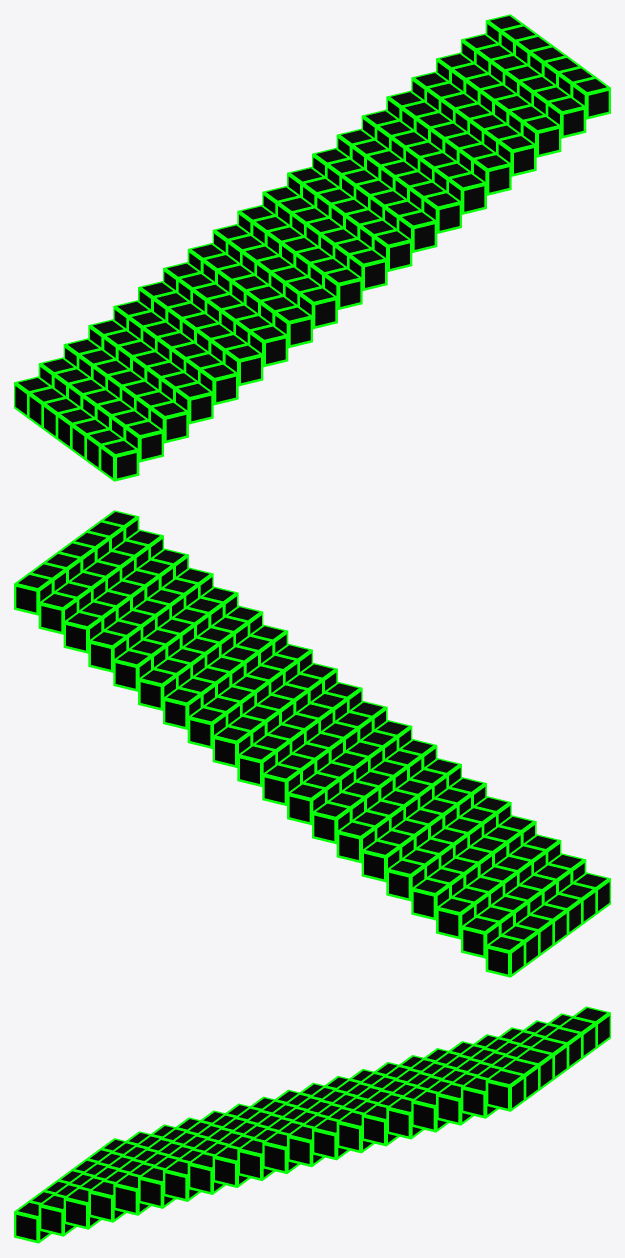
Rendered from stairs.fbx.
The picture shows the model from 3 angles, top to bottom: view 1: azimuth 30°, elevation 25°; view 2: azimuth 150°, elevation 25°; view 3: azimuth 330°, elevation 25°; orthographic projection.
Parts seen in each view (by area): view 1: Cube; view 2: Cube; view 3: Cube.
Boxes of the visible parts, x1,y1,x2,y2 form: Cube: (14,14,610,481); Cube: (14,510,610,977); Cube: (14,1006,610,1243).
Size of the model in its own units: 4000 by 2100 by 1400.
